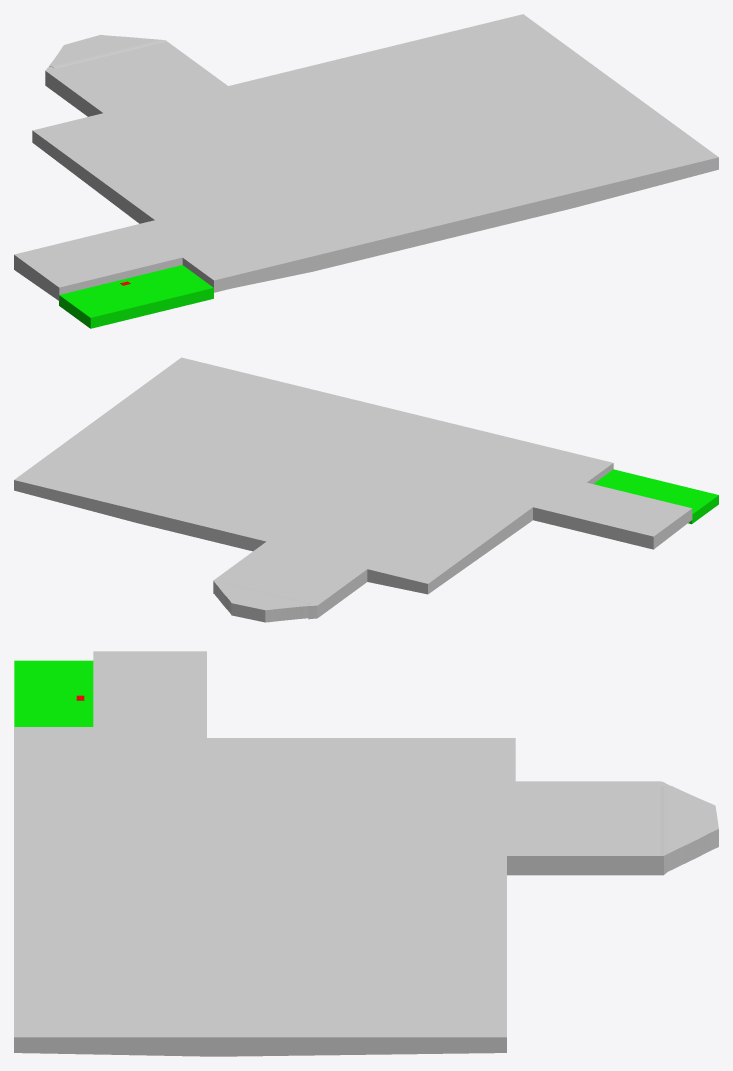
File: Basement ceiling  2.fbx
3 renders of one model, top to bottom at view 1: azimuth 30°, elevation 25°; view 2: azimuth 150°, elevation 25°; view 3: azimuth 270°, elevation 25°, orthographic. The views are drawn at different scales.
Visible parts, largest first — view 1: Cube, Torus; view 2: Cube, Torus; view 3: Cube, Torus.
Part boxes in pixels (<box>): Cube: <box>14,14,718,300</box>; Torus: <box>59,265,213,328</box>; Cube: <box>14,357,692,622</box>; Torus: <box>593,469,718,524</box>; Cube: <box>14,651,718,1056</box>; Torus: <box>14,660,93,726</box>.
Bounding box in the file's own units: 2039 × 57.83 × 1573.
